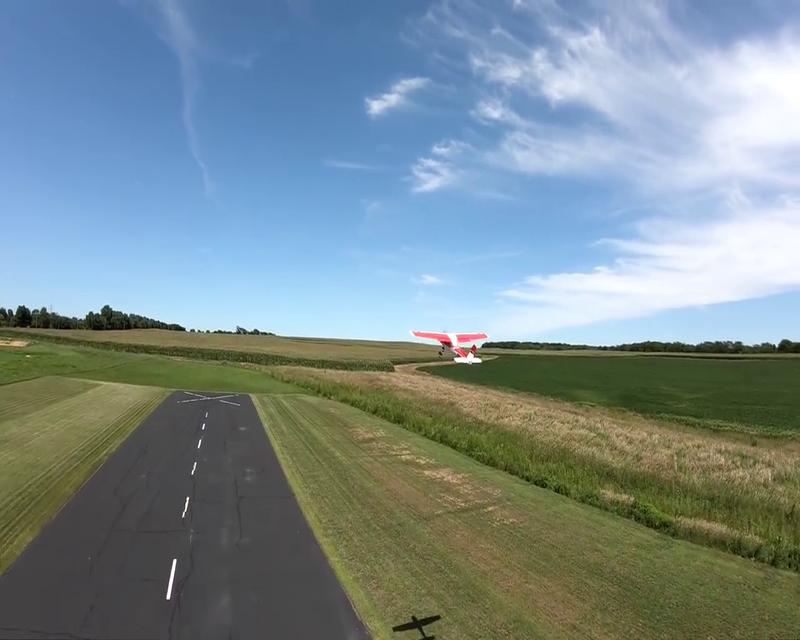UAV: (411, 324, 489, 366)
